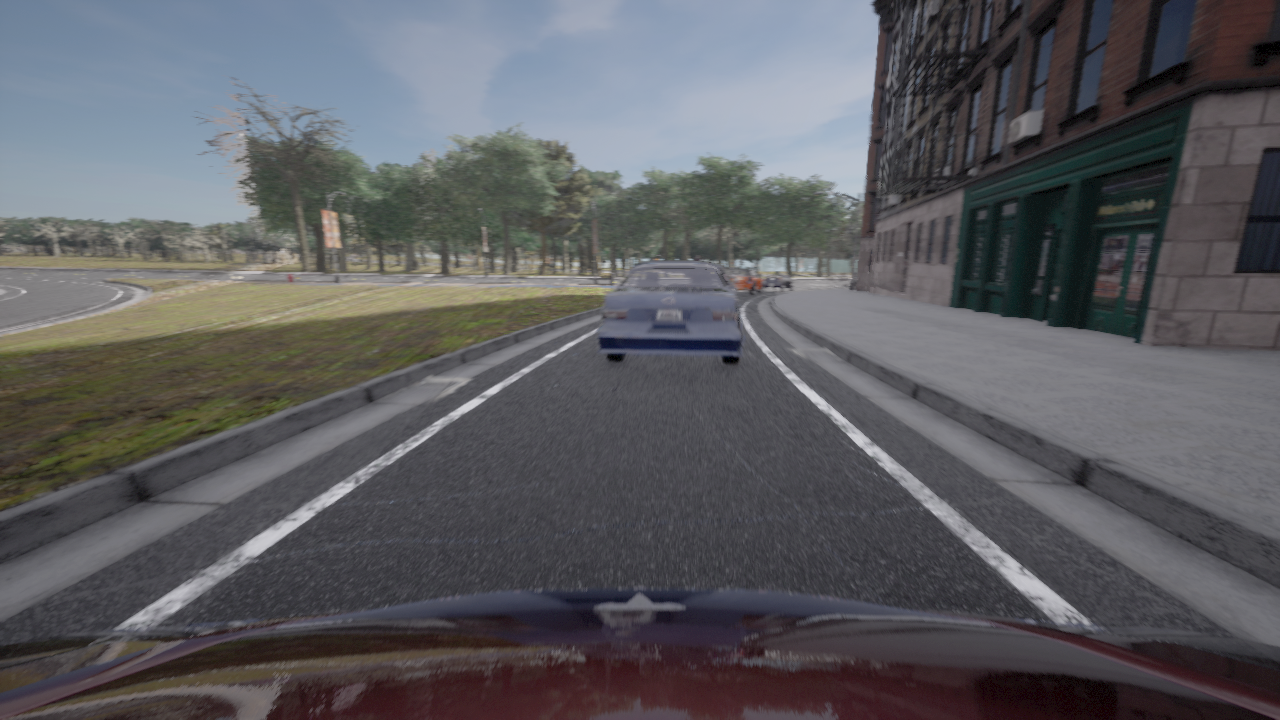cyclist: (0, 588, 1279, 719), (597, 260, 744, 364), (728, 266, 763, 295), (763, 272, 794, 291), (717, 265, 735, 286), (849, 272, 857, 285)
